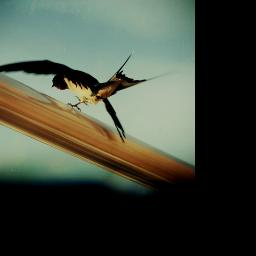Swallow: (0, 52, 176, 143)
